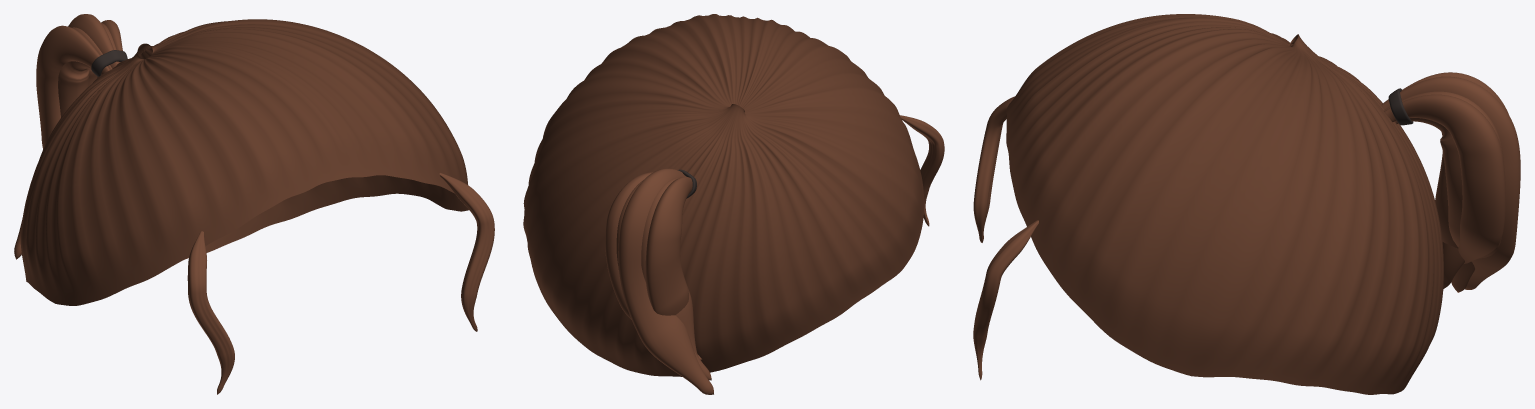
File: ponytail-headband-default.glb
3 views of the same model, side by side, from view 1: azimuth 30°, elevation 25°; view 2: azimuth 150°, elevation 25°; view 3: azimuth 270°, elevation 25° (orthographic). The views are drawn at different scales.
Parts seen in each view (by area): view 1: Hair / swept roots220, Hair / rounded tail220 0, Hair / adjustable front216 1, Hair / adjustable front216 -1, Hair / rounded tail220 1, Hair / rounded tail220 2, Hair / tie220; view 2: Hair / swept roots220, Hair / rounded tail220 2, Hair / rounded tail220 0, Hair / rounded tail220 4, Hair / adjustable front216 -1, Hair / rounded tail220 1, Hair / rounded tail220 3; view 3: Hair / swept roots220, Hair / rounded tail220 4, Hair / rounded tail220 2, Hair / adjustable front216 1, Hair / rounded tail220 3, Hair / adjustable front216 -1, Hair / rounded tail220 1, Hair / rounded tail220 0, Hair / tie220.
Part boxes in pixels (bbox=[...]): Hair / swept roots220: bbox=[20, 19, 468, 305]; Hair / rounded tail220 0: bbox=[36, 25, 109, 149]; Hair / adjustable front216 1: bbox=[439, 173, 494, 331]; Hair / adjustable front216 -1: bbox=[187, 231, 234, 394]; Hair / rounded tail220 1: bbox=[58, 27, 111, 117]; Hair / rounded tail220 2: bbox=[14, 14, 119, 259]; Hair / tie220: bbox=[91, 50, 127, 76]; Hair / swept roots220: bbox=[523, 14, 924, 376]; Hair / rounded tail220 2: bbox=[618, 168, 713, 394]; Hair / rounded tail220 0: bbox=[645, 176, 697, 315]; Hair / rounded tail220 4: bbox=[605, 172, 702, 359]; Hair / adjustable front216 -1: bbox=[899, 115, 944, 226]; Hair / rounded tail220 1: bbox=[641, 177, 697, 354]; Hair / rounded tail220 3: bbox=[616, 180, 711, 380]; Hair / swept roots220: bbox=[1006, 14, 1443, 394]; Hair / rounded tail220 4: bbox=[1384, 94, 1505, 263]; Hair / rounded tail220 2: bbox=[1381, 76, 1520, 289]; Hair / adjustable front216 1: bbox=[973, 220, 1038, 380]; Hair / rounded tail220 3: bbox=[1384, 91, 1503, 258]; Hair / adjustable front216 -1: bbox=[973, 96, 1014, 242]; Hair / rounded tail220 1: bbox=[1435, 132, 1474, 292]; Hair / rounded tail220 0: bbox=[1384, 72, 1508, 288]; Hair / tie220: bbox=[1388, 88, 1413, 125].
Size of the model in its own units: 0.7726 by 0.5798 by 0.8568.
